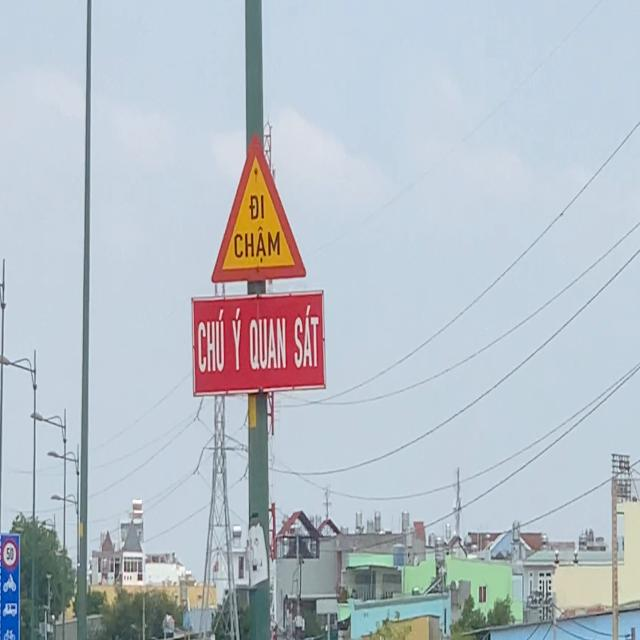Nguy hiem: (206, 123, 313, 295)
Toc do toi da: (3, 539, 18, 568)
